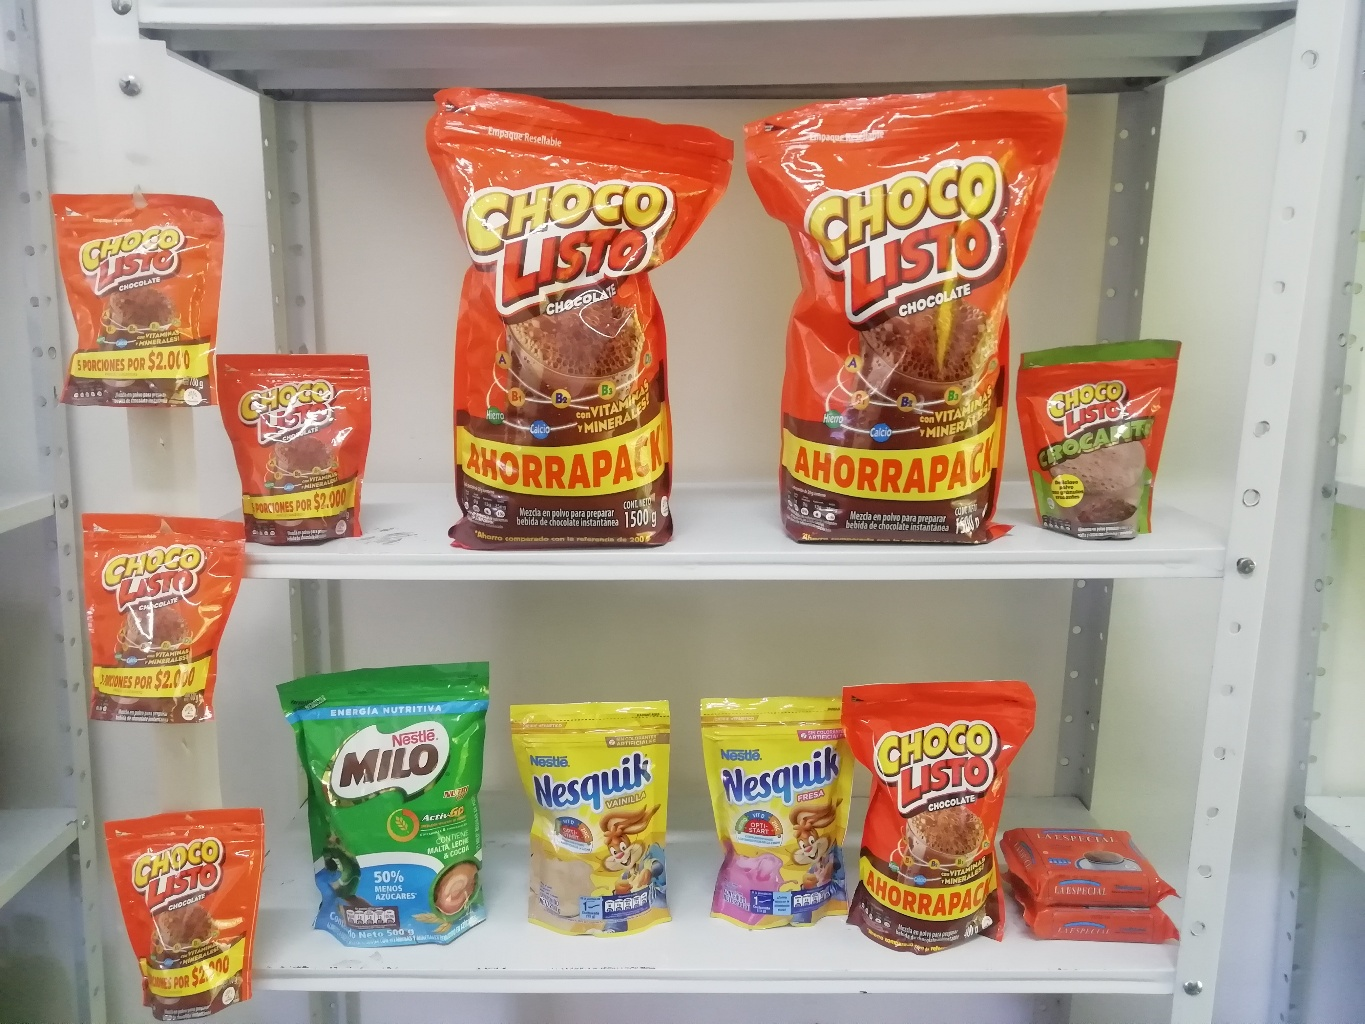COL0170102DYP10000: (1019, 337, 1181, 542)
COL0170103DYP1,500: (422, 86, 728, 554)
COL0170103DYP10000: (46, 177, 223, 407)
COL0170103DYP40000: (842, 680, 1038, 953)
COL0170205DYP50000: (276, 666, 510, 948)
COL0170305DYP20000: (700, 692, 863, 931)
COL0170306DYP20000: (510, 702, 676, 935)
